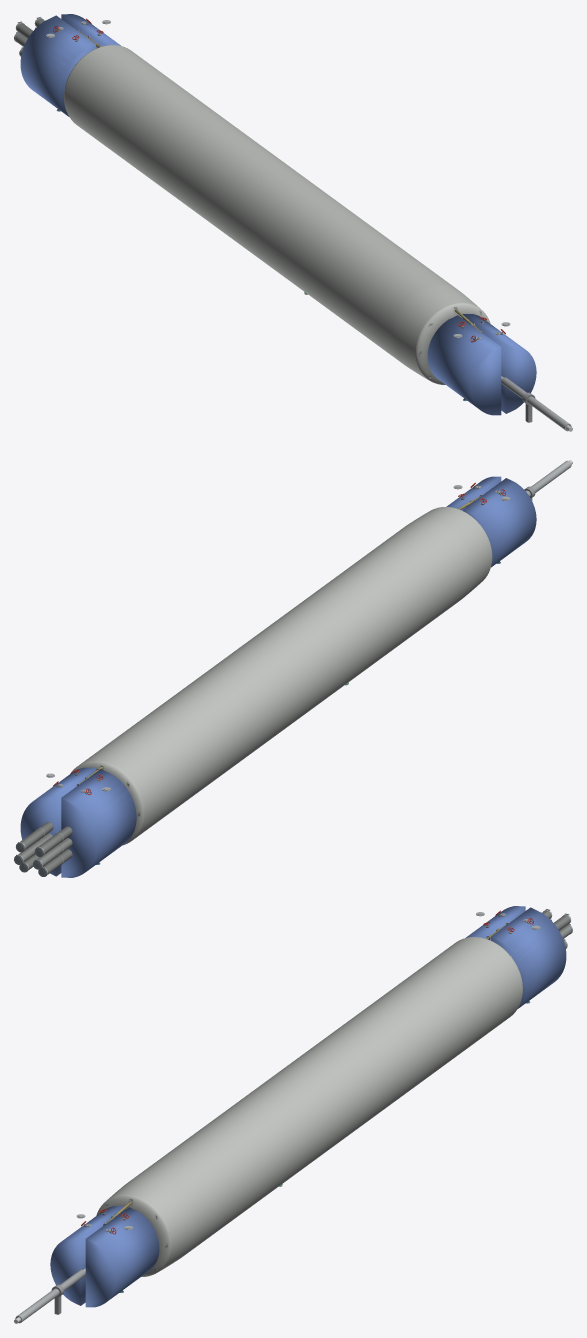
The model's file is sx1-interior.glb.
3 views of the same model, one above another, from view 1: azimuth 30°, elevation 25°; view 2: azimuth 150°, elevation 25°; view 3: azimuth 330°, elevation 25° (orthographic).
Visible parts, largest first — view 1: SX1I_CascoResistente_Malha, SX1I_Tanque_TLP2BB_Malha, SX1I_Tanque_TLP1BB_Malha, SX1I_Tanque_TLP2BE_Malha, SX1I_Antepara_Re_Malha, SX1I_Tanque_TLP1BE_Malha, SX1I_TuboTelescopico_Malha; view 2: SX1I_CascoResistente_Malha, SX1I_Tanque_TLP1BB_Malha, SX1I_Tanque_TLP2BB_Malha, SX1I_Tanque_TLP1BE_Malha, SX1I_Antepara_Vante_Malha, SX1I_Tanque_TLP2BE_Malha; view 3: SX1I_CascoResistente_Malha, SX1I_Tanque_TLP2BE_Malha, SX1I_Tanque_TLP1BE_Malha, SX1I_Tanque_TLP2BB_Malha, SX1I_Antepara_Re_Malha, SX1I_Tanque_TLP1BB_Malha, SX1I_TuboTelescopico_Malha.
Part boxes in pixels (<box>): SX1I_CascoResistente_Malha: <box>64,45,479,379</box>; SX1I_Tanque_TLP2BB_Malha: <box>427,315,501,415</box>; SX1I_Tanque_TLP1BB_Malha: <box>20,15,95,116</box>; SX1I_Tanque_TLP2BE_Malha: <box>462,314,536,413</box>; SX1I_Antepara_Re_Malha: <box>415,303,490,384</box>; SX1I_Tanque_TLP1BE_Malha: <box>61,14,120,48</box>; SX1I_TuboTelescopico_Malha: <box>501,377,571,431</box>; SX1I_CascoResistente_Malha: <box>80,507,491,838</box>; SX1I_Tanque_TLP1BB_Malha: <box>61,769,136,877</box>; SX1I_Tanque_TLP2BB_Malha: <box>462,478,536,567</box>; SX1I_Tanque_TLP1BE_Malha: <box>20,767,95,876</box>; SX1I_Antepara_Vante_Malha: <box>70,761,144,845</box>; SX1I_Tanque_TLP2BE_Malha: <box>446,476,501,510</box>; SX1I_CascoResistente_Malha: <box>107,937,522,1271</box>; SX1I_Tanque_TLP2BE_Malha: <box>85,1207,159,1307</box>; SX1I_Tanque_TLP1BE_Malha: <box>491,907,566,1008</box>; SX1I_Tanque_TLP2BB_Malha: <box>50,1206,124,1305</box>; SX1I_Antepara_Re_Malha: <box>96,1195,171,1276</box>; SX1I_Tanque_TLP1BB_Malha: <box>466,906,525,940</box>; SX1I_TuboTelescopico_Malha: <box>15,1269,85,1323</box>.
Bounding box in the file's own units: 5.9 × 5.95 × 69.38.
